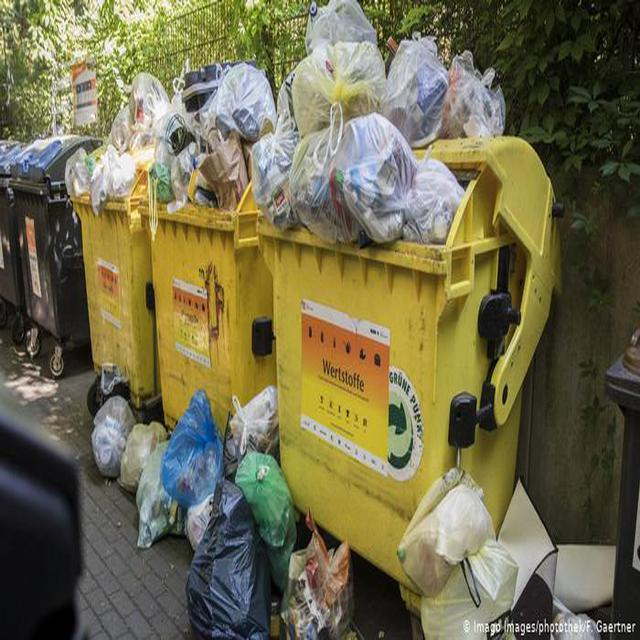garbage: (73, 367, 359, 640), (284, 0, 510, 248), (390, 470, 616, 640), (62, 61, 288, 212)
